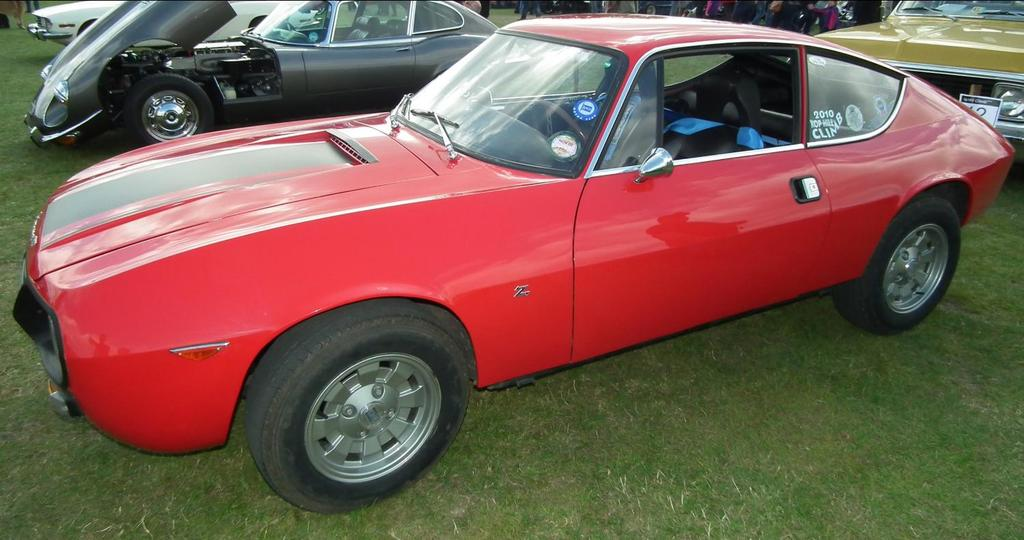Car: (12, 15, 1017, 516), (22, 0, 535, 149), (808, 0, 1024, 191), (22, 0, 374, 48)
